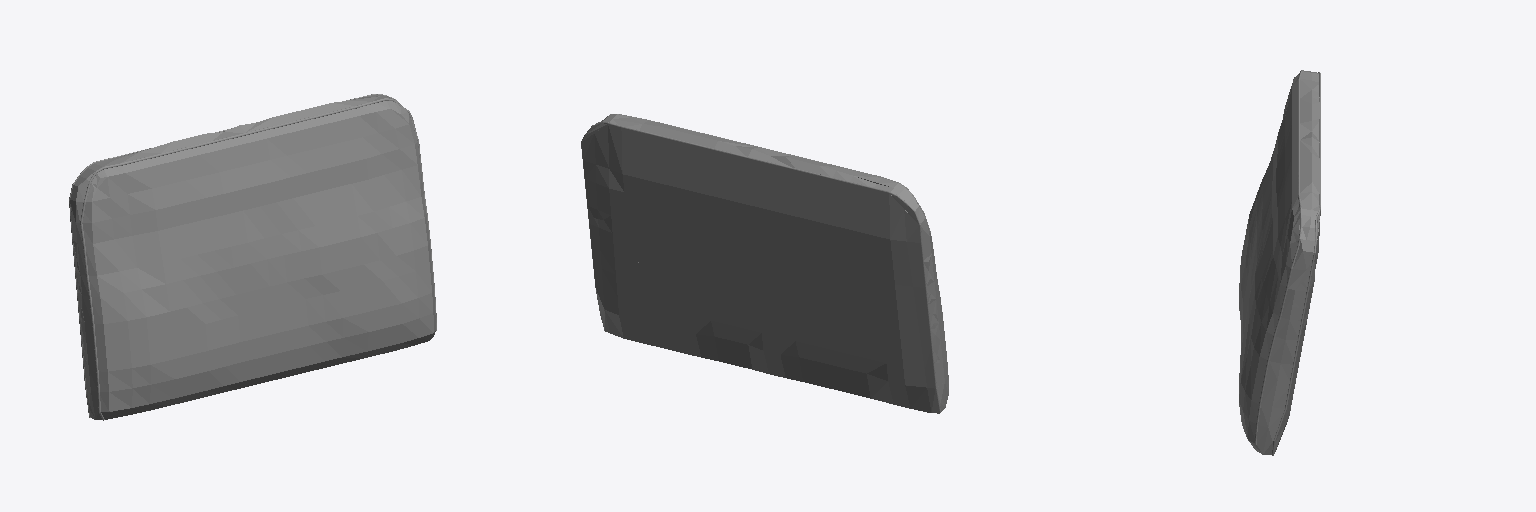
Rendered from back.obj.
3 views of the same model, side by side, from view 1: azimuth 30°, elevation 25°; view 2: azimuth 150°, elevation 25°; view 3: azimuth 270°, elevation 25° (orthographic).
Parts seen in each view (by area): view 1: back; view 2: back; view 3: back.
Boxes of the visible parts, box(x1,y1,x2,y2) form: back: box(69, 94, 436, 420); back: box(581, 114, 948, 413); back: box(1239, 70, 1320, 455).
Bounding box in the file's own units: 22.2 × 14.73 × 4.63.